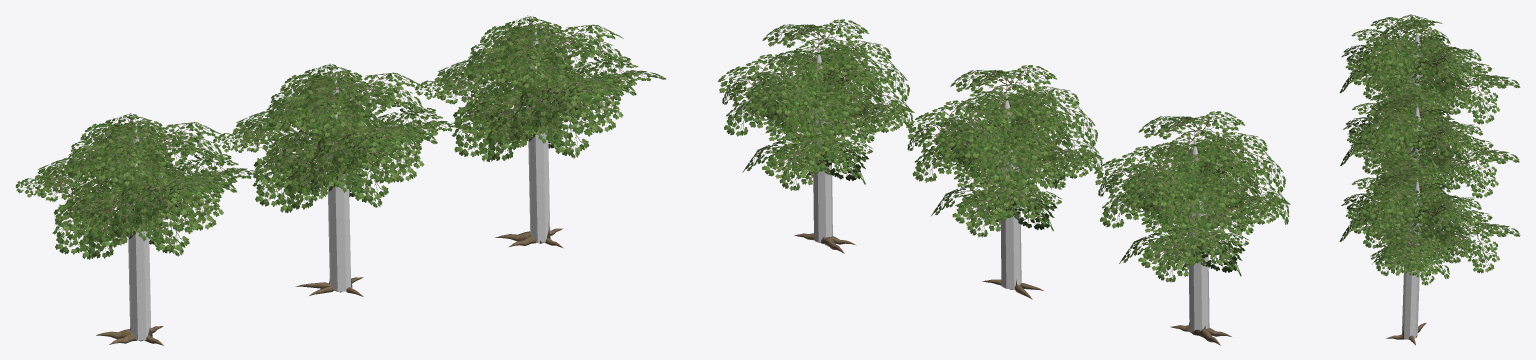
Rendered from trees.dae.
The picture shows the model from 3 angles, left to right: view 1: azimuth 30°, elevation 25°; view 2: azimuth 150°, elevation 25°; view 3: azimuth 270°, elevation 25°; orthographic projection. The views are drawn at different scales.
Visible parts, largest first — view 1: Leafs_M, Leafs_L, Leafs_H, Leafs_reverse_H, Leafs_reverse_M, Leafs_reverse_L, Volume_M, Volume_L, Volume_H, Bark_H, Bark_L, Bark_M; view 2: Leafs_M, Leafs_L, Leafs_H, Leafs_reverse_M, Leafs_reverse_H, Leafs_reverse_L, Volume_M, Volume_L, Volume_H, Bark_L, Bark_H, Bark_M; view 3: Leafs_H, Leafs_M, Leafs_L, Leafs_reverse_H, Leafs_reverse_M, Leafs_reverse_L, Volume_H, Bark_H, Volume_L, Volume_M.
Boxes of the visible parts, <box> form: Leafs_M: <box>213,64,467,212</box>; Leafs_L: <box>15,113,266,259</box>; Leafs_H: <box>415,16,665,161</box>; Leafs_reverse_H: <box>415,16,665,161</box>; Leafs_reverse_M: <box>214,64,466,212</box>; Leafs_reverse_L: <box>16,114,266,259</box>; Volume_M: <box>326,76,351,291</box>; Volume_L: <box>126,124,151,340</box>; Volume_H: <box>526,27,550,242</box>; Bark_H: <box>453,15,602,248</box>; Bark_L: <box>55,114,202,345</box>; Bark_M: <box>253,65,404,296</box>; Leafs_M: <box>906,65,1102,236</box>; Leafs_L: <box>1094,111,1289,281</box>; Leafs_H: <box>718,19,914,190</box>; Leafs_reverse_M: <box>906,66,1103,237</box>; Leafs_reverse_H: <box>718,20,914,190</box>; Leafs_reverse_L: <box>1095,111,1290,281</box>; Volume_M: <box>1000,93,1021,289</box>; Volume_L: <box>1188,139,1209,332</box>; Volume_H: <box>813,47,832,242</box>; Bark_L: <box>1126,123,1264,345</box>; Bark_H: <box>752,32,887,253</box>; Bark_M: <box>935,78,1076,299</box>; Leafs_H: <box>1341,163,1520,285</box>; Leafs_M: <box>1341,88,1519,207</box>; Leafs_L: <box>1341,14,1520,126</box>; Leafs_reverse_H: <box>1340,163,1519,283</box>; Leafs_reverse_M: <box>1340,89,1519,197</box>; Leafs_reverse_L: <box>1340,15,1519,124</box>; Volume_H: <box>1402,178,1422,339</box>; Bark_H: <box>1367,174,1478,345</box>; Volume_L: <box>1403,29,1422,149</box>; Volume_M: <box>1406,103,1423,238</box>.
Bounding box in the file's own units: 30.88 × 10.75 × 10.53.
Materials: 2 (2 with a texture image).
